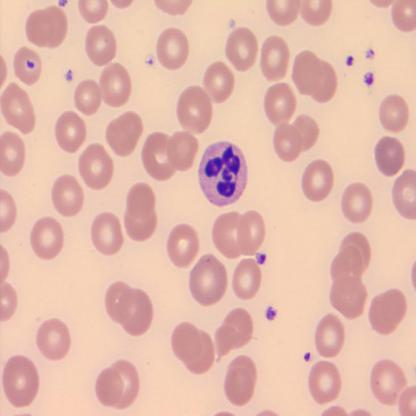Segmented neutrophil: (197, 139, 250, 209)
